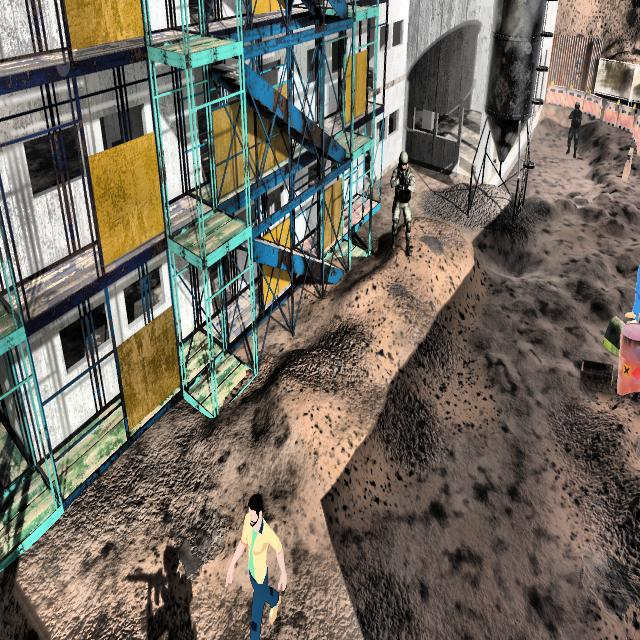bad: (381, 138, 420, 264), (562, 94, 587, 162)
good: (222, 476, 288, 640)
